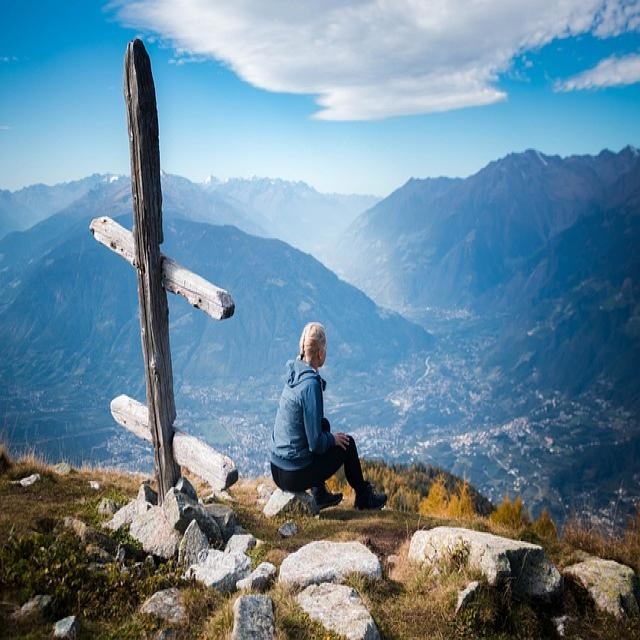Real human 2: (267, 306, 401, 531)
